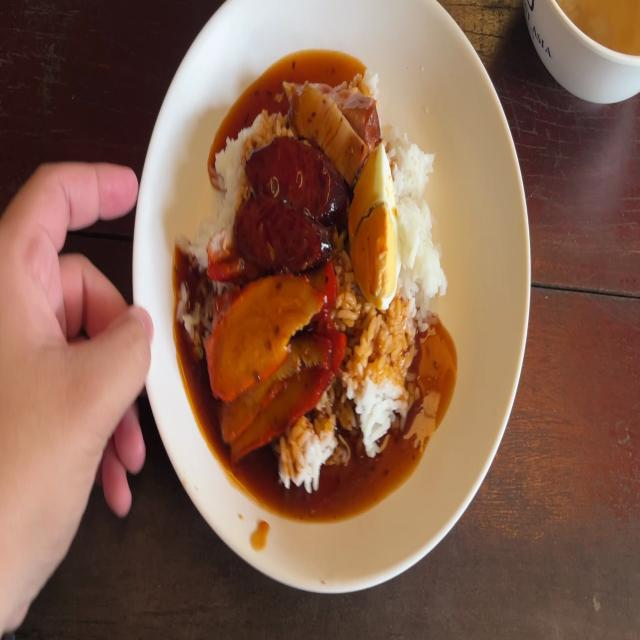red_pork_and_crispy_pork: (354, 148, 404, 303)
stir_fried_basil: (242, 136, 344, 272), (240, 203, 335, 272), (247, 147, 343, 203)
